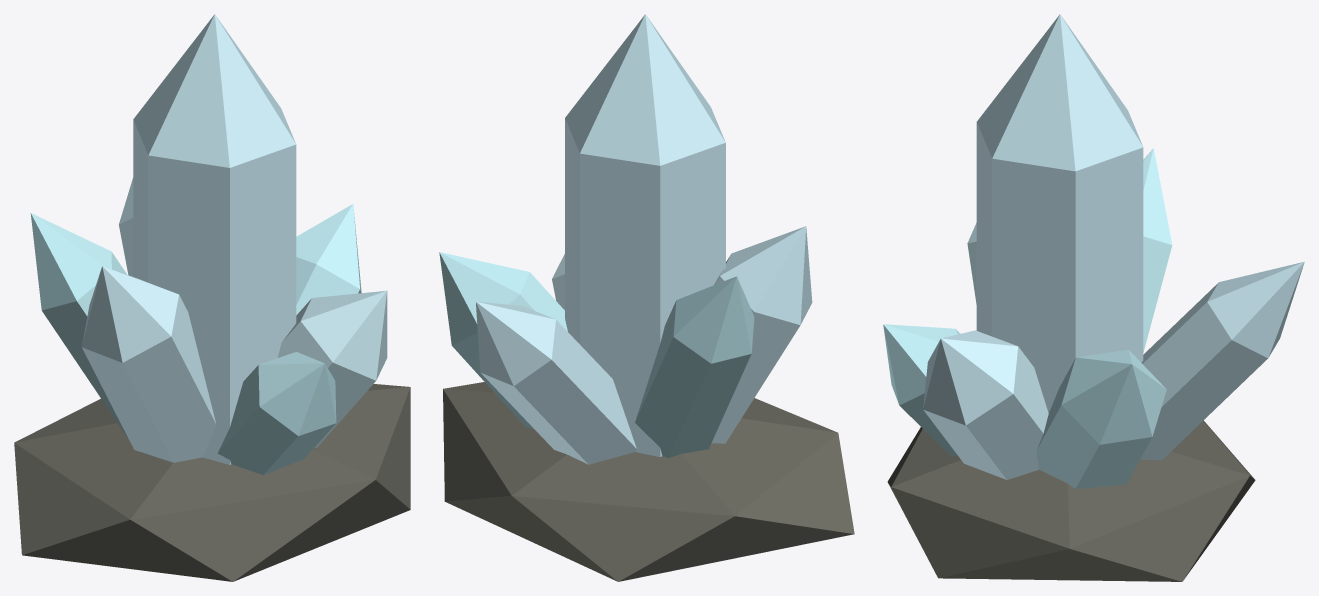
File: IceCrystals.fbx
3 views of the same model, side by side, from view 1: azimuth 30°, elevation 25°; view 2: azimuth 150°, elevation 25°; view 3: azimuth 270°, elevation 25° (orthographic). The views are drawn at different scales.
Parts seen in each view (by area): view 1: IceCrystals; view 2: IceCrystals; view 3: IceCrystals.
Boxes of the visible parts, box(x1,y1,x2,y2) form: IceCrystals: box(14, 14, 410, 581); IceCrystals: box(439, 14, 854, 581); IceCrystals: box(883, 14, 1304, 581).
Size of the model in its own units: 2.68 by 3.29 by 2.38.
Materials: 1 (1 with a texture image).
